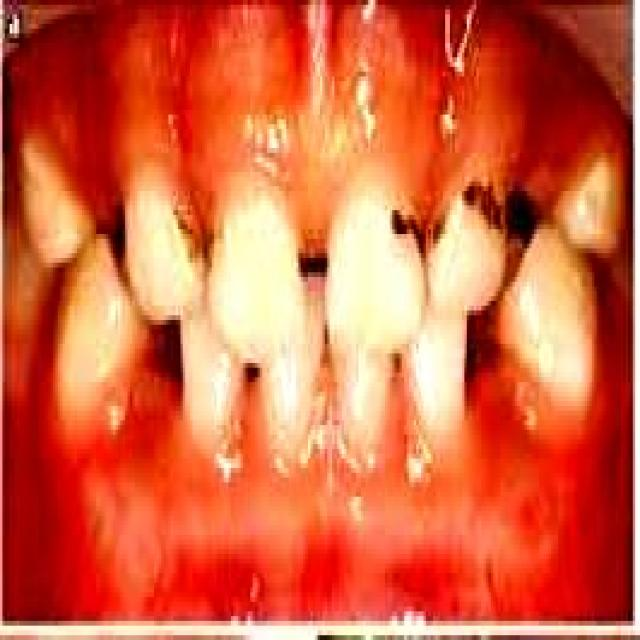caries: (448, 144, 533, 259), (375, 180, 432, 266)
